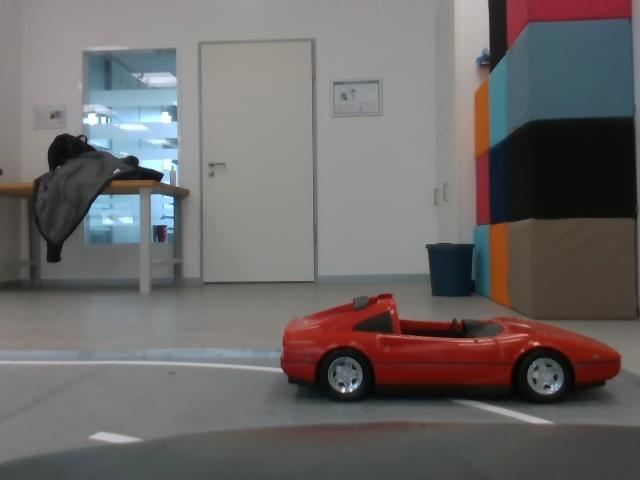car: (283, 286, 628, 409)
